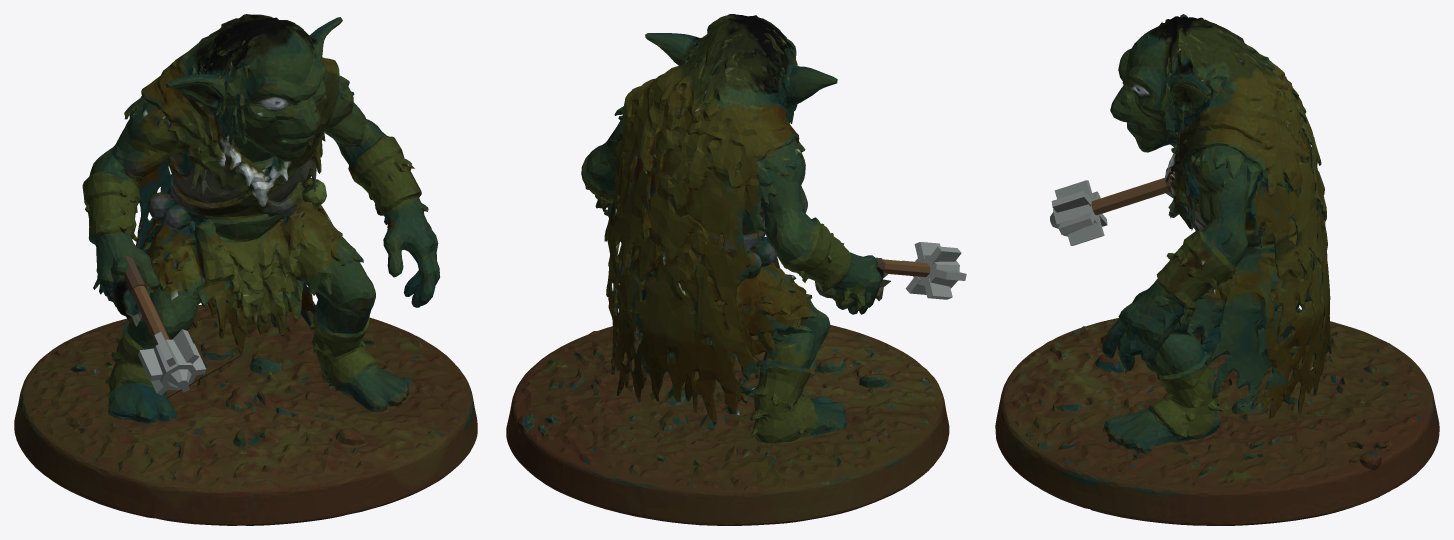
File: goblinCombatente_maca_sem_escudo.glb
The picture shows the model from 3 angles, left to right: view 1: azimuth 30°, elevation 25°; view 2: azimuth 150°, elevation 25°; view 3: azimuth 270°, elevation 25°; orthographic projection. The views are drawn at different scales.
Visible parts, largest first — view 1: goblinCombatente_maca_sem_escudo; view 2: goblinCombatente_maca_sem_escudo; view 3: goblinCombatente_maca_sem_escudo.
Boxes of the visible parts, <box> form: goblinCombatente_maca_sem_escudo: <box>14,14,477,525</box>; goblinCombatente_maca_sem_escudo: <box>506,14,966,525</box>; goblinCombatente_maca_sem_escudo: <box>995,14,1439,525</box>.
Size of the model in its own units: 1.94 by 1.96 by 1.91.
Materials: 4 (1 with a texture image).
